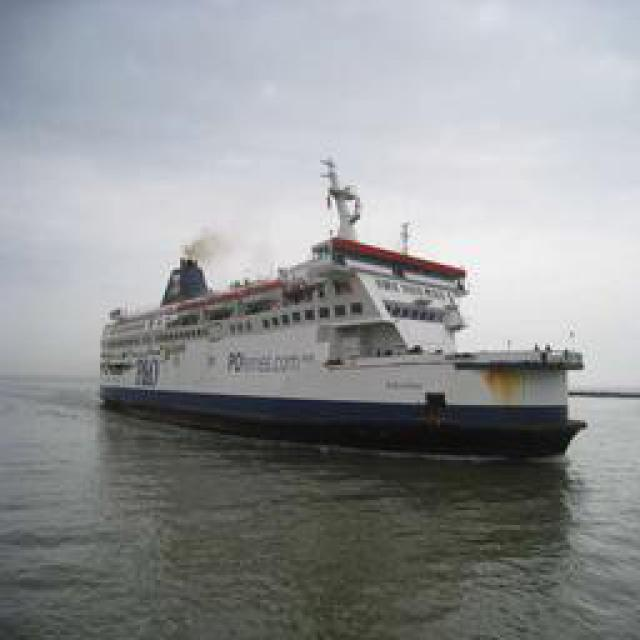Ship: (109, 133, 594, 451)
